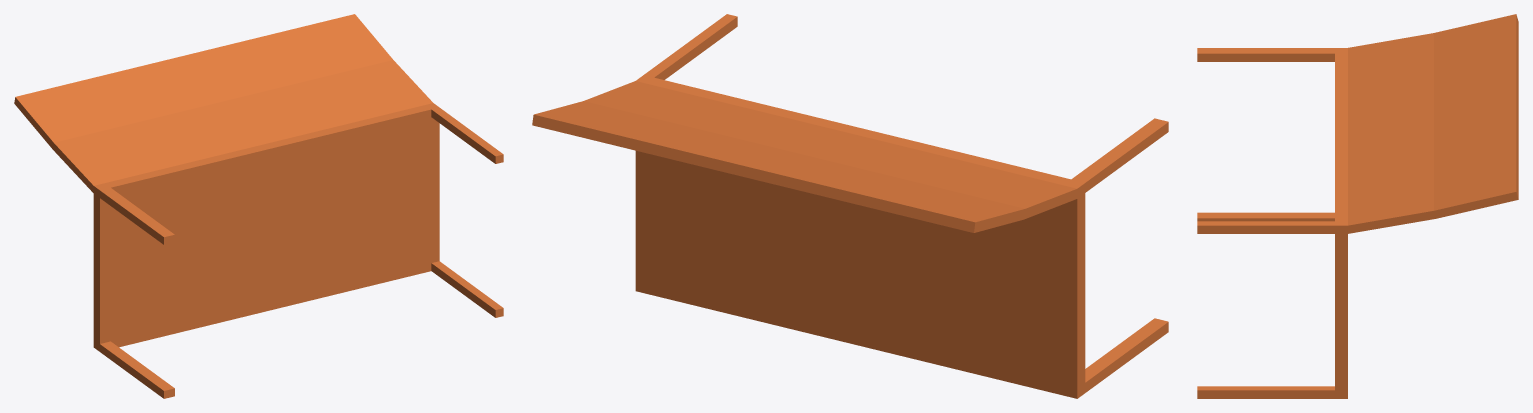
File: bench.fbx
3 views of the same model, side by side, from view 1: azimuth 30°, elevation 25°; view 2: azimuth 150°, elevation 25°; view 3: azimuth 270°, elevation 25° (orthographic). The views are drawn at different scales.
Parts seen in each view (by area): view 1: Cube; view 2: Cube; view 3: Cube.
Boxes of the visible parts, bbox=[...] form: Cube: bbox=[14, 14, 503, 398]; Cube: bbox=[532, 14, 1168, 398]; Cube: bbox=[1197, 14, 1518, 398].
Bounding box in the file's own units: 110 × 59.76 × 83.99.
